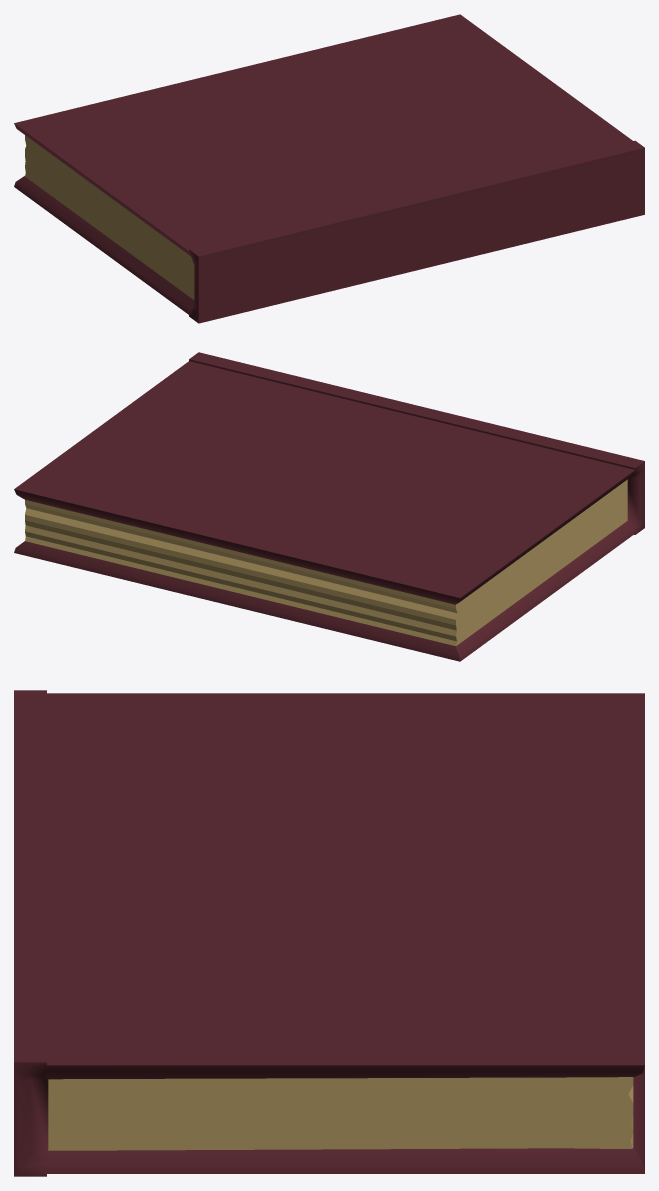
The model's file is book.fbx.
The picture shows the model from 3 angles, top to bottom: view 1: azimuth 30°, elevation 25°; view 2: azimuth 150°, elevation 25°; view 3: azimuth 270°, elevation 25°; orthographic projection. The views are drawn at different scales.
Parts seen in each view (by area): view 1: Book_Cover, Book_Pages; view 2: Book_Cover, Book_Pages; view 3: Book_Cover, Book_Pages.
Boxes of the visible parts, box(x1,y1,x2,y2) form: Book_Cover: box(14, 14, 644, 323); Book_Pages: box(25, 135, 194, 299); Book_Cover: box(14, 352, 644, 661); Book_Pages: box(25, 479, 627, 645); Book_Cover: box(14, 690, 644, 1176); Book_Pages: box(48, 1077, 633, 1150).
Bounding box in the file's own units: 17.33 × 2.49 × 12.42.
